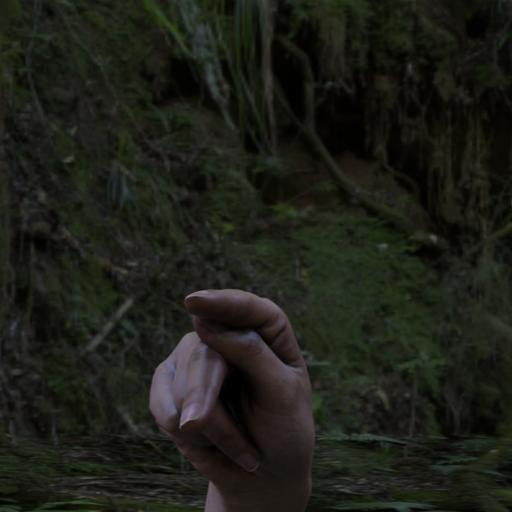P: (145, 281, 321, 490)
